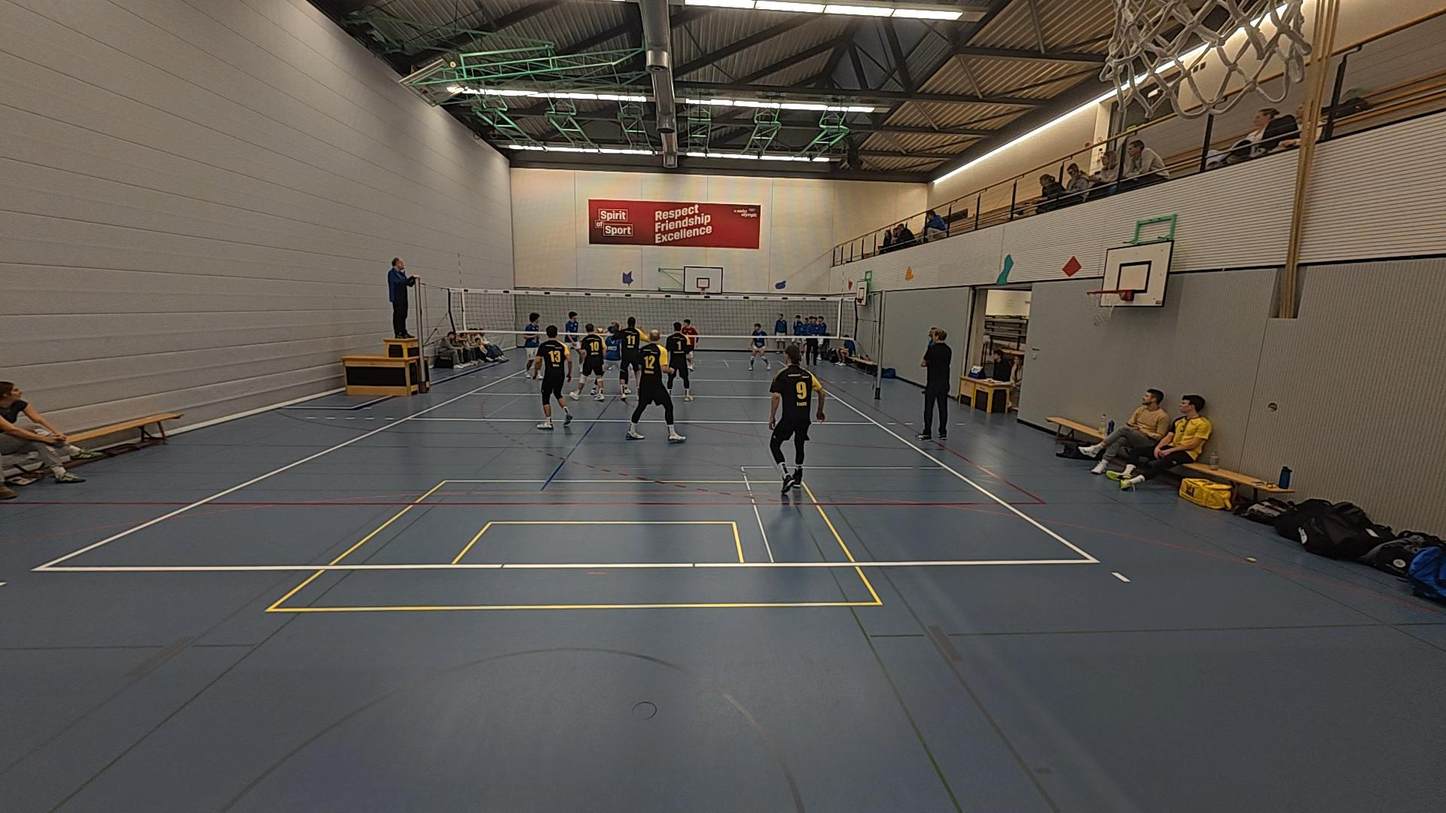Player: (767, 346, 824, 497), (624, 326, 685, 443), (530, 324, 572, 431), (576, 321, 611, 402), (590, 325, 626, 395), (664, 321, 694, 403), (556, 310, 586, 375), (521, 313, 542, 385), (746, 319, 770, 369), (677, 317, 700, 369), (770, 312, 791, 358)
Receive: (594, 318, 622, 371)
ball: (597, 327, 604, 334)
